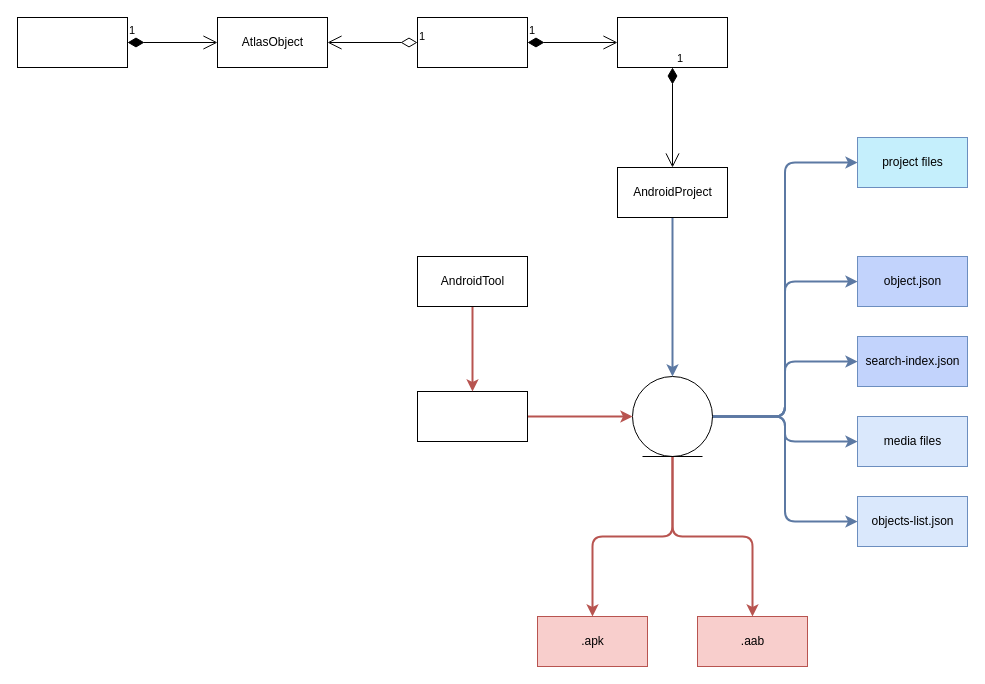
Some shapes in this 985 by 684 pixel diagram are drawn without their labels. The shapes that lost their labels are listed below. From the top down, each one's centre as x and y in pixels, then its label:
At point 72,42: "AtlasCollection".
At point 472,42: "Release".
At point 672,42: "AndroidApp".
At point 472,416: "GradlewProcess".
At point 672,416: "FS".
